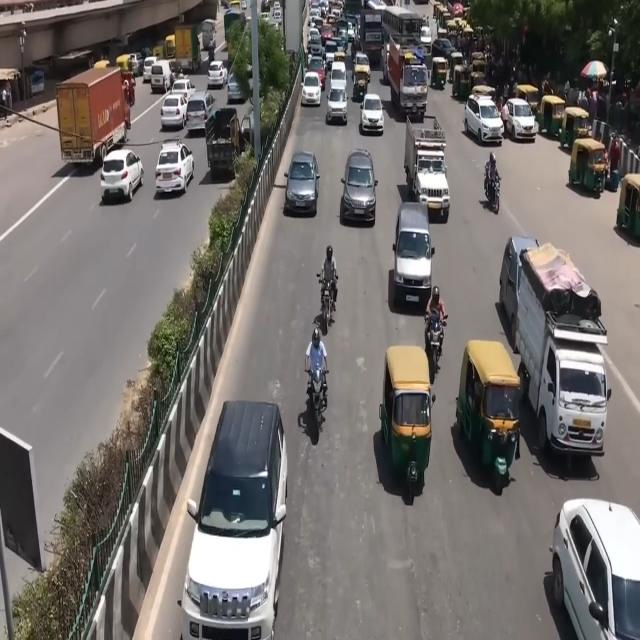auto: (454, 338, 522, 490), (379, 346, 433, 496), (569, 136, 609, 194), (559, 104, 592, 152), (616, 171, 640, 237), (538, 94, 566, 142), (452, 60, 474, 99), (515, 84, 540, 117), (430, 54, 448, 90), (448, 51, 464, 88), (469, 61, 487, 92), (164, 35, 176, 59)
bike-auto: (306, 327, 328, 441), (425, 285, 448, 358), (320, 249, 338, 313), (485, 149, 501, 207)
